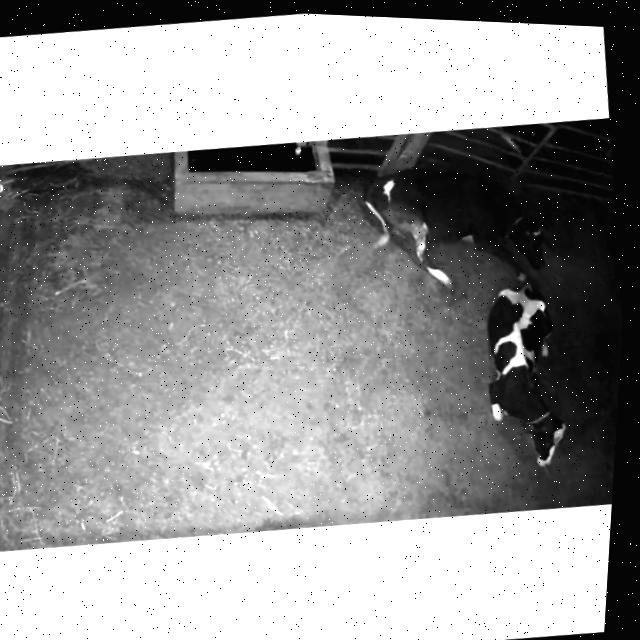lay: (347, 141, 576, 304), (452, 262, 595, 482)
